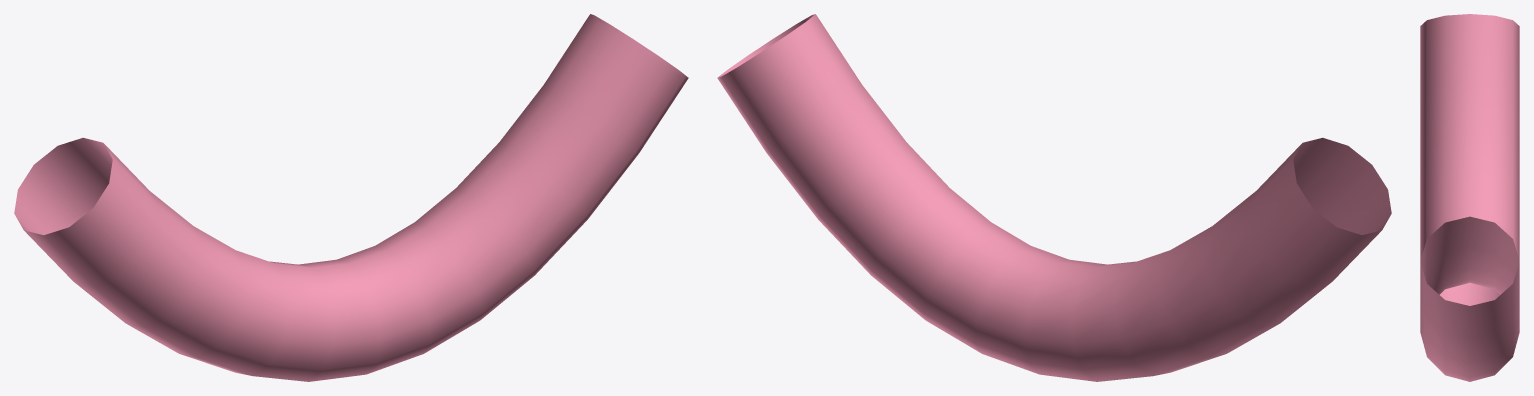
The model's file is mouth-smile.glb.
3 renders of one model, left to right at view 1: azimuth 30°, elevation 25°; view 2: azimuth 150°, elevation 25°; view 3: azimuth 270°, elevation 25°, orthographic. The views are drawn at different scales.
Visible parts, largest first — view 1: CMP_Critter_Mouth_Smile_Curve; view 2: CMP_Critter_Mouth_Smile_Curve; view 3: CMP_Critter_Mouth_Smile_Curve.
Boxes of the visible parts, x1,y1,x2,y2 form: CMP_Critter_Mouth_Smile_Curve: [14, 14, 688, 381]; CMP_Critter_Mouth_Smile_Curve: [717, 14, 1391, 381]; CMP_Critter_Mouth_Smile_Curve: [1420, 14, 1519, 381].
Bounding box in the file's own units: 0.9561 × 0.4025 × 0.15.
